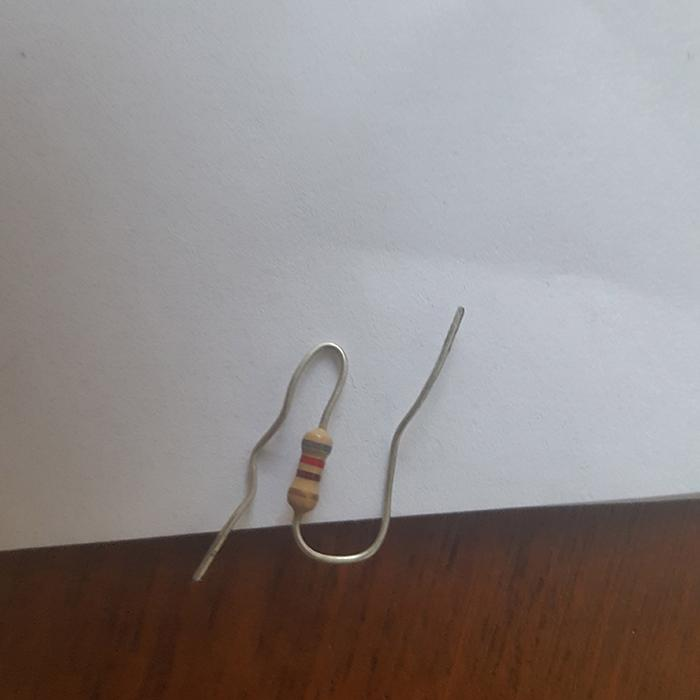resistor: (287, 426, 333, 515)
